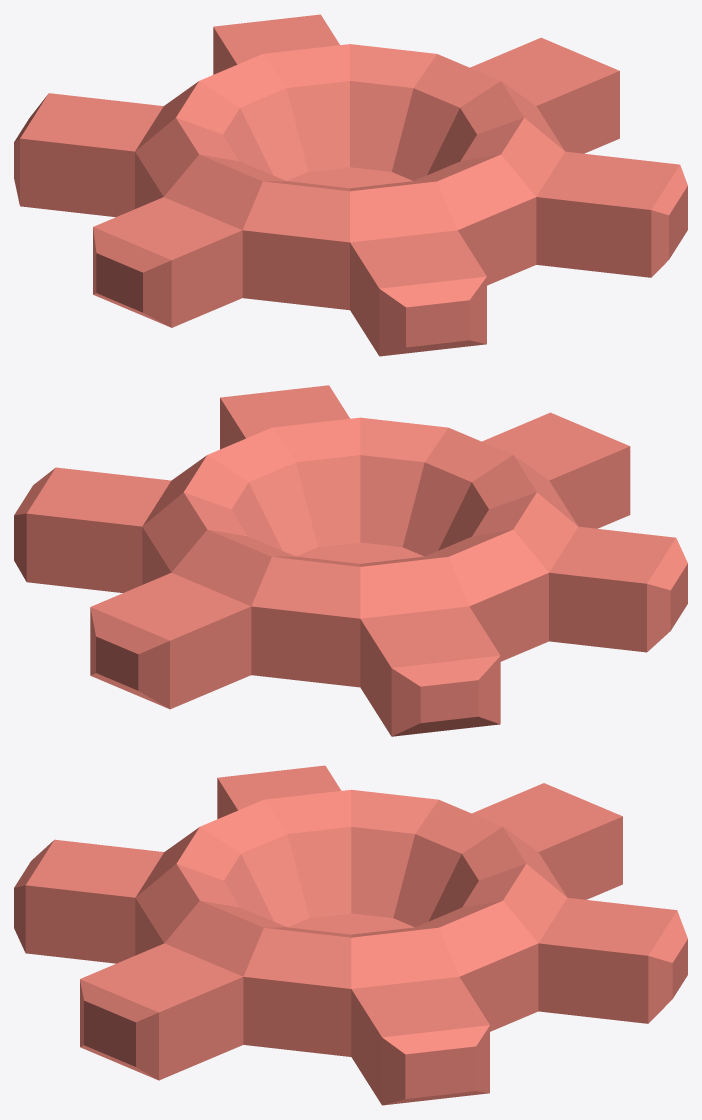
The model's file is mechanical_cog.fbx.
The picture shows the model from 3 angles, top to bottom: view 1: azimuth 30°, elevation 25°; view 2: azimuth 150°, elevation 25°; view 3: azimuth 270°, elevation 25°; orthographic projection.
Visible parts, largest first — view 1: mesh1635285099; view 2: mesh1635285099; view 3: mesh1635285099.
Part boxes in pixels (x1,y1,x2,y2): mesh1635285099: (14, 14, 687, 356); mesh1635285099: (14, 385, 687, 736); mesh1635285099: (14, 765, 687, 1105).
Size of the model in its own units: 15.85 by 2.68 by 16.
